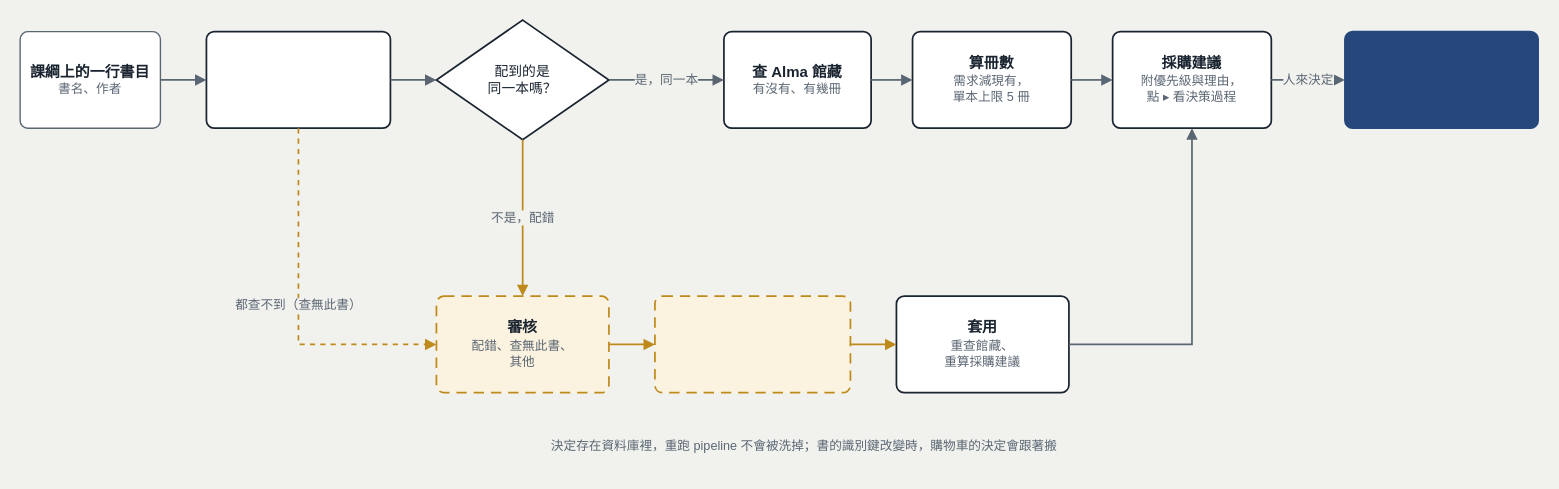
The diagram is 1559 pixels wide and 489 high, and some of its shapes have lost their labels. Each missing label, with the centre of its shape:
人決定 加入採購建議（可改書名）， 或都不買: point 752,344
購物車 人決定冊數， 匯出 CSV 下單: point 1441,79
驗證 NCL 或 LOC，再 Google Books， 再三民、TAAZE: point 298,79
